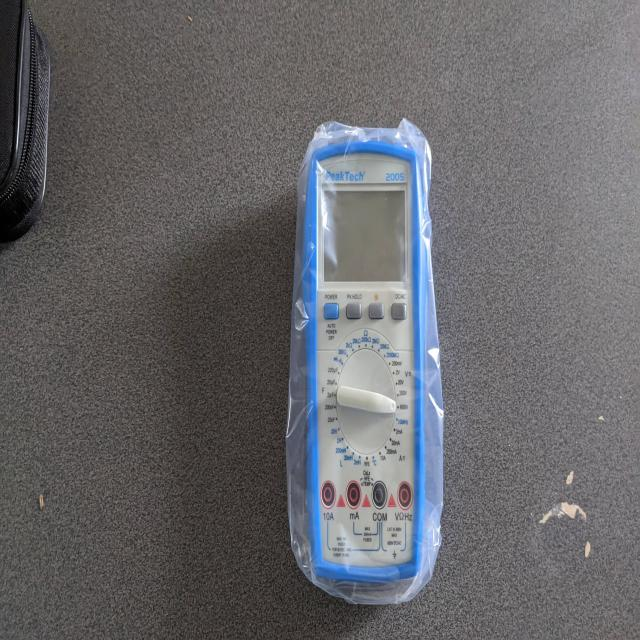Digital Multimeter: (290, 115, 440, 606)
